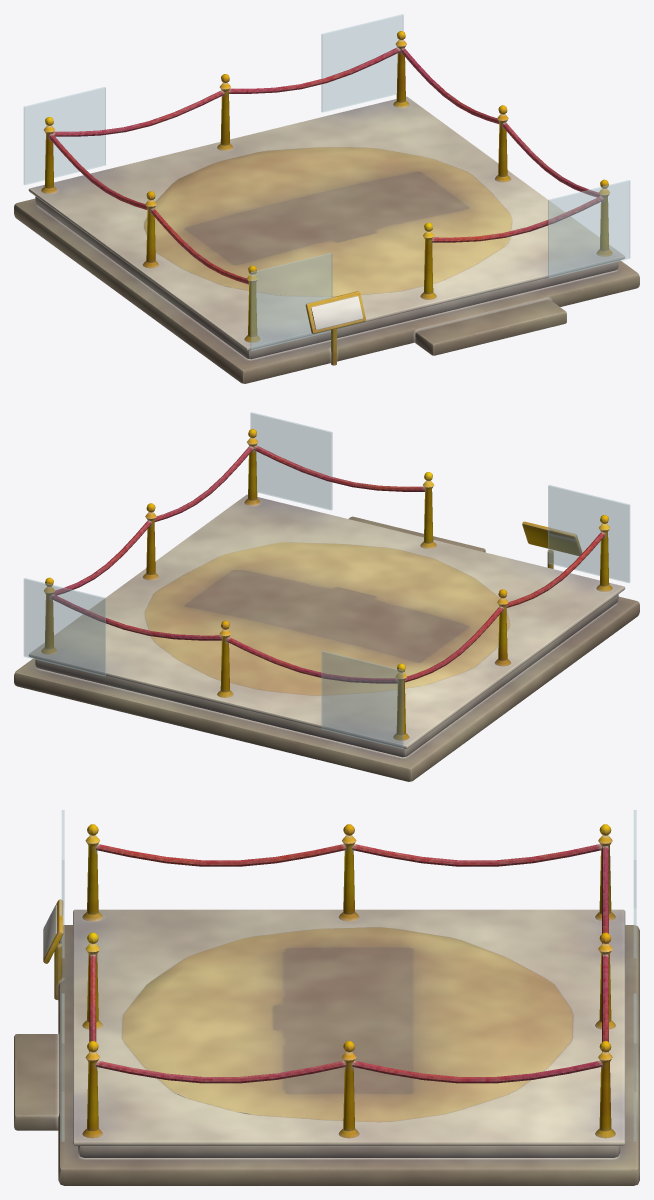
File: display_case_mega.glb
3 renders of one model, top to bottom at view 1: azimuth 30°, elevation 25°; view 2: azimuth 150°, elevation 25°; view 3: azimuth 270°, elevation 25°, orthographic. The views are drawn at different scales.
Visible parts, largest first — view 1: SM_DisplayCaseMega; view 2: SM_DisplayCaseMega; view 3: SM_DisplayCaseMega.
Boxes of the visible parts, x1,y1,x2,y2 form: SM_DisplayCaseMega: (14,14,639,383); SM_DisplayCaseMega: (14,412,639,781); SM_DisplayCaseMega: (14,810,639,1185).
Size of what is drawn, in the model's own units: 5.9 by 1.55 by 6.35.
2 materials, 1 textured.
